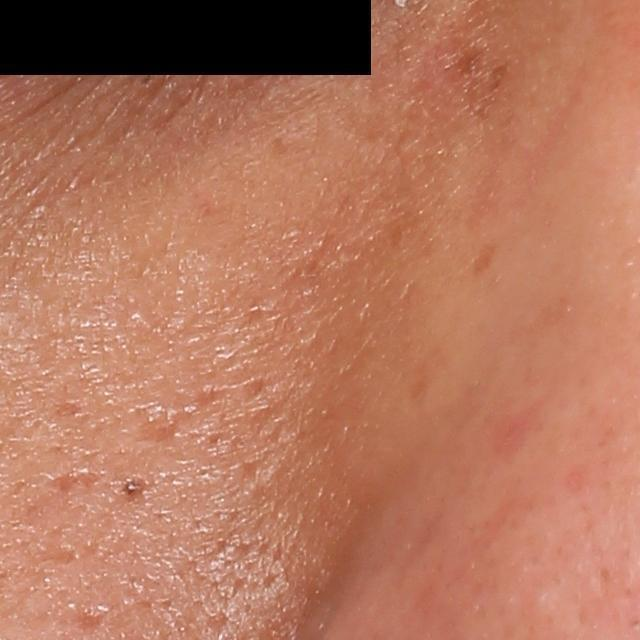atrophic_scar: (127, 405, 188, 448), (48, 470, 94, 492), (75, 604, 109, 633)
melasma: (448, 37, 512, 101), (471, 236, 503, 272)
nevus: (119, 476, 145, 498)
